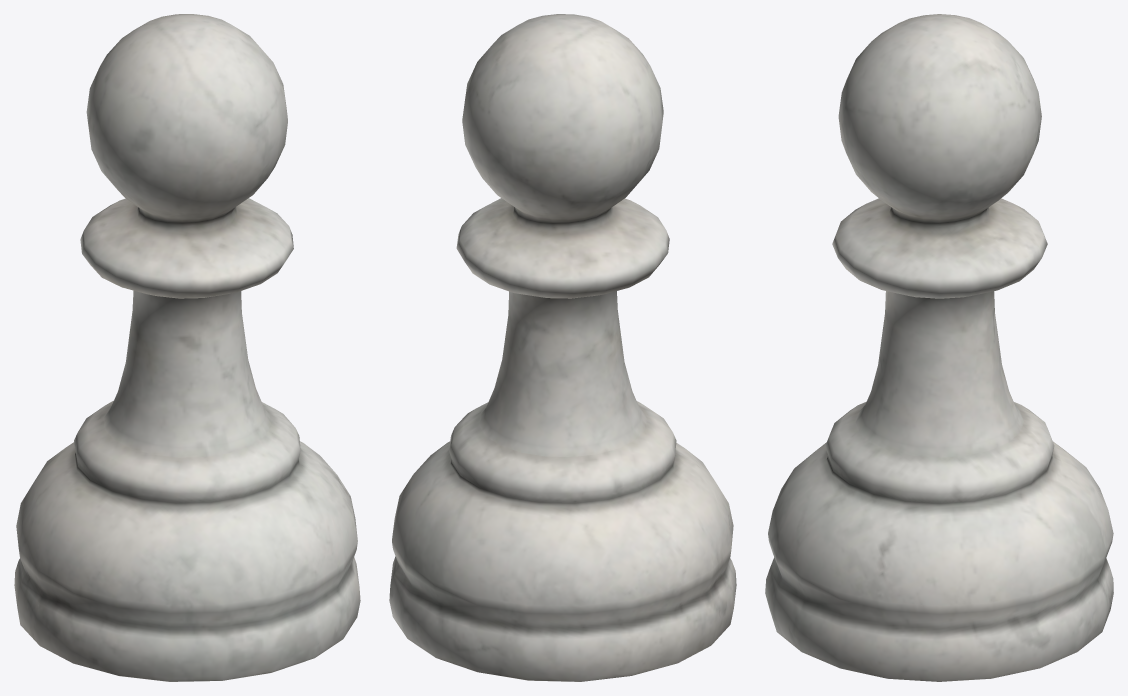
File: chess-set-1k-piece-pawn-white-01.glb
3 views of the same model, side by side, from view 1: azimuth 30°, elevation 25°; view 2: azimuth 150°, elevation 25°; view 3: azimuth 270°, elevation 25° (orthographic).
Visible parts, largest first — view 1: piece_pawn_white_01; view 2: piece_pawn_white_01; view 3: piece_pawn_white_01.
Boxes of the visible parts, x1=… form: piece_pawn_white_01: x1=14, y1=14, x2=360, y2=681; piece_pawn_white_01: x1=389, y1=14, x2=736, y2=681; piece_pawn_white_01: x1=765, y1=14, x2=1113, y2=681.
Size of the model in its own units: 0.0289 by 0.0537 by 0.0289.
Materials: 1 (1 with a texture image).
